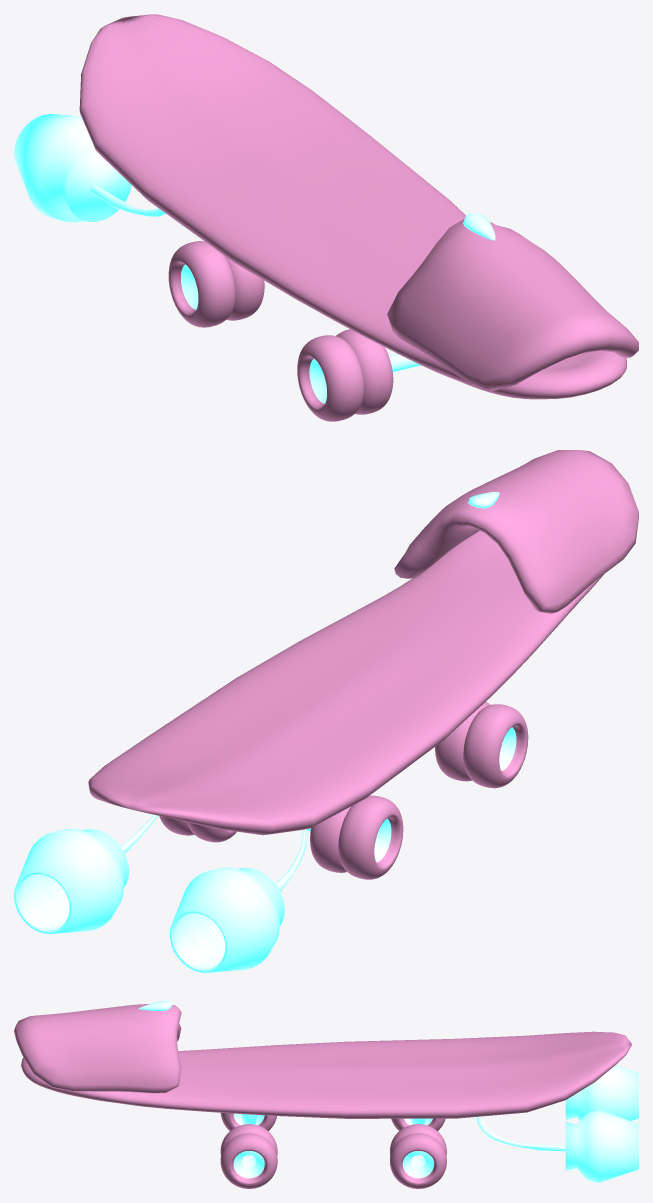
File: air_skate.glb
3 renders of one model, top to bottom at view 1: azimuth 30°, elevation 25°; view 2: azimuth 150°, elevation 25°; view 3: azimuth 270°, elevation 25°, orthographic. The views are drawn at different scales.
Visible parts, largest first — view 1: air_skate; view 2: air_skate; view 3: air_skate.
Boxes of the visible parts, bbox=[...] form: air_skate: bbox=[14, 14, 638, 421]; air_skate: bbox=[14, 450, 638, 972]; air_skate: bbox=[14, 1001, 638, 1188].
Bounding box in the file's own units: 0.1882 × 0.1605 × 0.6029.
